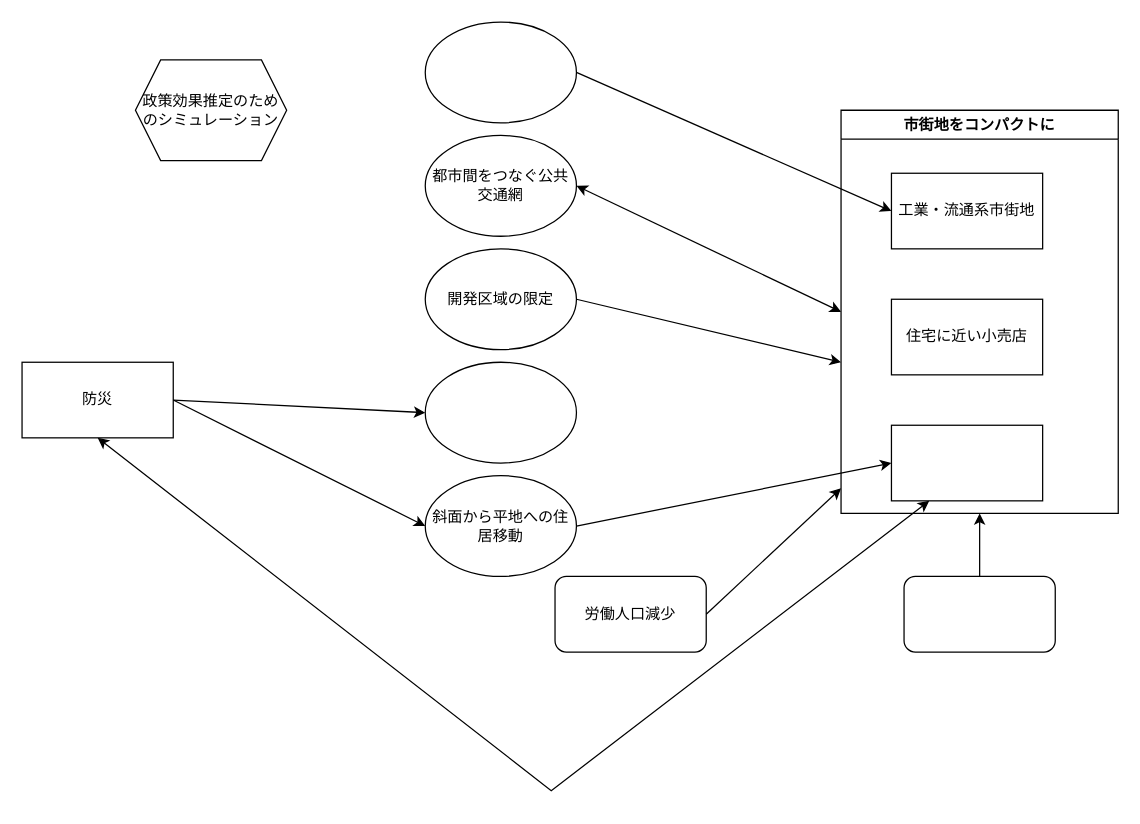
The diagram is 1140 pixels wide and 824 high, and some of its shapes have lost their labels. The shapes that lost their labels are listed below. From the top down, each one's box as (x1, y1, x2, y2) in pixels, then its label:
(424, 21, 576, 123): 道路網の整備で流通を促進
(424, 361, 576, 463): 空き家の緑地化
(890, 424, 1043, 501): 住居系市街地：平地を中心とする住居
(903, 575, 1055, 652): 高齢化
